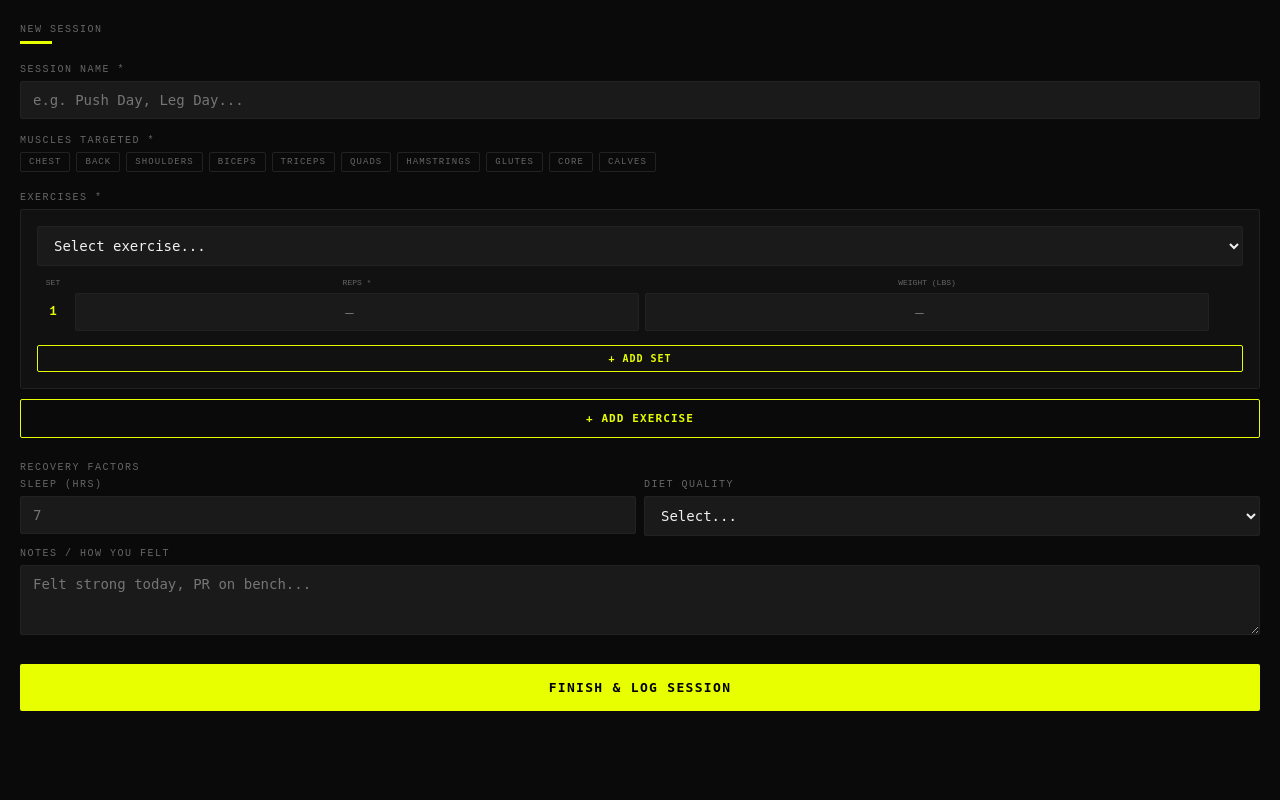
Test: LogWorkout component › US-01: user can add a set to an exercise
Step 1. Click the button with test id "add-set-0" → coordinates (640, 358), box [37, 345, 1243, 372]
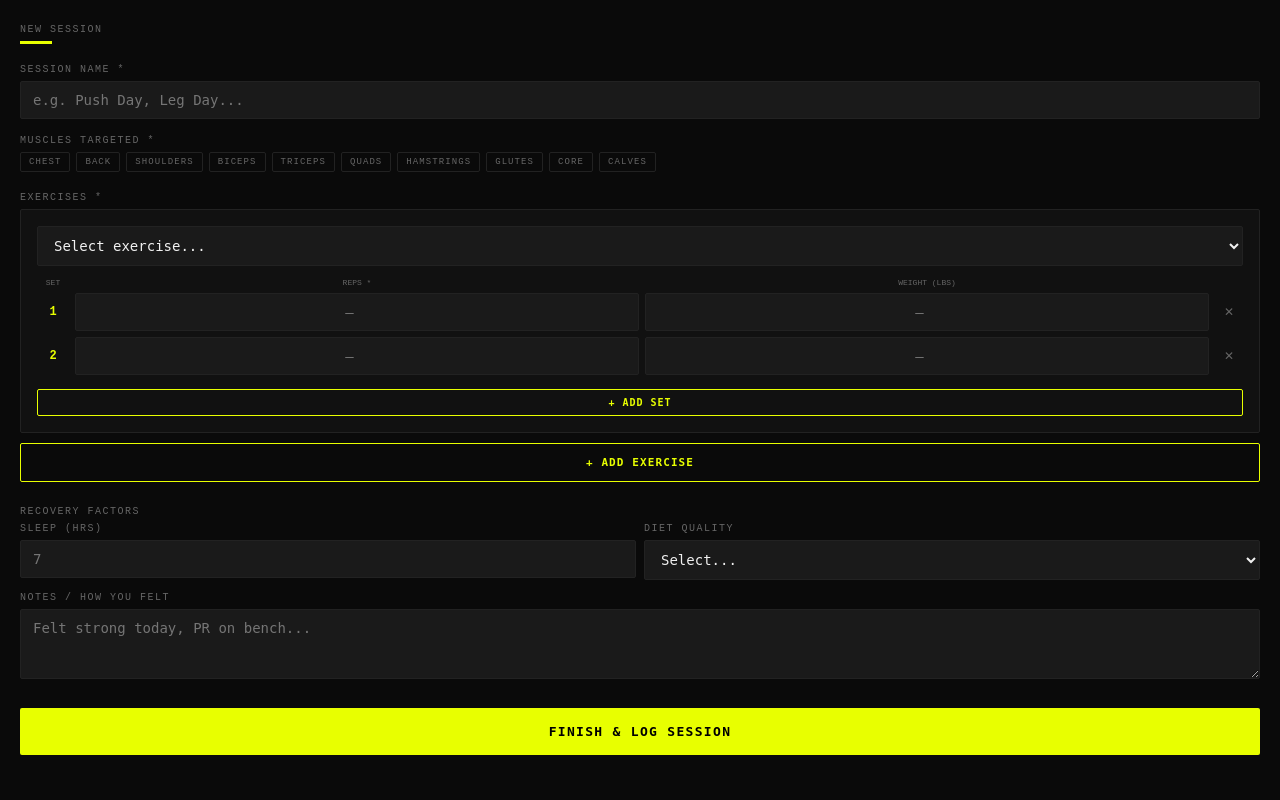
Now the number field with test id "set-0-1-reps" is shown, box [75, 337, 639, 375]
